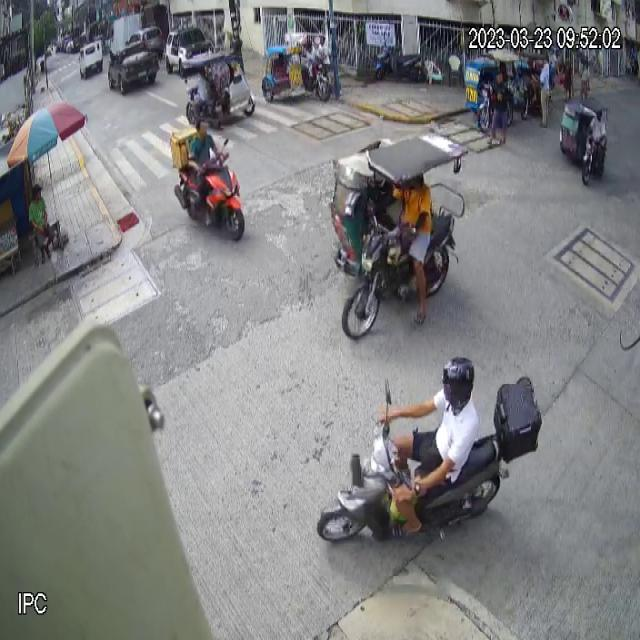Motorcycle: (318, 376, 544, 546), (174, 137, 246, 239)
Tricycle: (329, 130, 469, 343), (181, 48, 256, 128), (261, 32, 331, 104), (559, 96, 610, 186)
